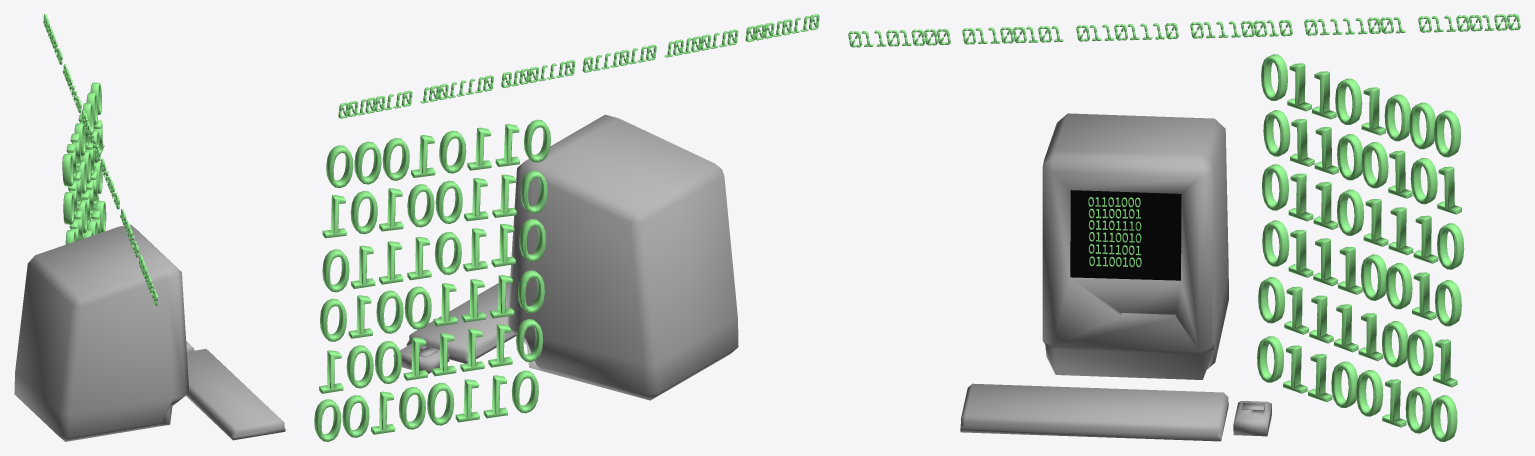
Rendered from binary.glb.
3 renders of one model, left to right at view 1: azimuth 30°, elevation 25°; view 2: azimuth 150°, elevation 25°; view 3: azimuth 270°, elevation 25°, orthographic. The views are drawn at different scales.
Parts seen in each view (by area): view 1: vintage_mac; view 2: vintage_mac; view 3: vintage_mac.
Part boxes in pixels (bbox=[...]): vintage_mac: bbox=[14, 14, 285, 441]; vintage_mac: bbox=[314, 14, 819, 441]; vintage_mac: bbox=[848, 14, 1520, 441].
Size of the model in its own units: 10.87 by 14.85 by 22.47.
